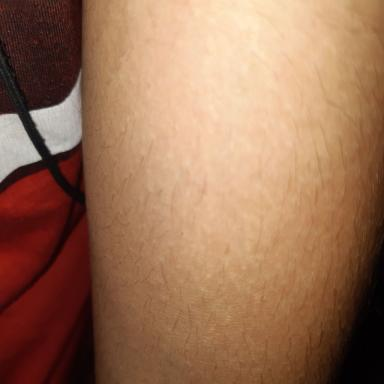normal skin: (83, 2, 384, 382)
